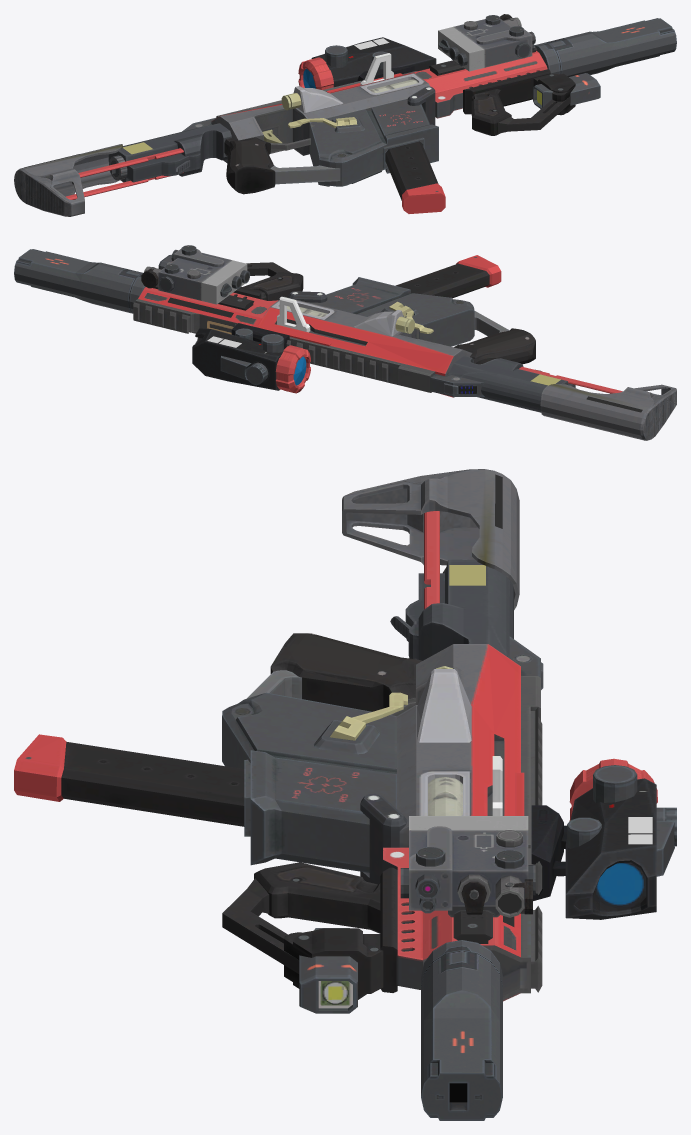
3 views of the same model, one above another, from view 1: azimuth 30°, elevation 25°; view 2: azimuth 150°, elevation 25°; view 3: azimuth 270°, elevation 25° (orthographic). The views are drawn at different scales.
Visible parts, largest first — view 1: wp01a_a002b2_sm.mo, wp01a_muzzle002a_sm.mo, wp01a_scope002a_sm.mo, wp01a_attach002a_sm.mo, wp01a_magazine002a_sm.mo; view 2: wp01a_a002b2_sm.mo, wp01a_scope002a_sm.mo, wp01a_muzzle002a_sm.mo, wp01a_attach002a_sm.mo, wp01a_magazine002a_sm.mo; view 3: wp01a_a002b2_sm.mo, wp01a_scope002a_sm.mo, wp01a_muzzle002a_sm.mo, wp01a_magazine002a_sm.mo, wp01a_attach002a_sm.mo.
Boxes of the visible parts, box(x1,y1,x2,y2) form: wp01a_a002b2_sm.mo: box(14, 46, 600, 216); wp01a_muzzle002a_sm.mo: box(534, 18, 676, 76); wp01a_scope002a_sm.mo: box(298, 37, 436, 89); wp01a_attach002a_sm.mo: box(438, 14, 535, 71); wp01a_magazine002a_sm.mo: box(385, 141, 445, 213); wp01a_a002b2_sm.mo: box(133, 254, 676, 440); wp01a_scope002a_sm.mo: box(192, 323, 310, 393); wp01a_muzzle002a_sm.mo: box(14, 249, 145, 313); wp01a_attach002a_sm.mo: box(141, 245, 250, 304); wp01a_magazine002a_sm.mo: box(395, 255, 501, 298); wp01a_a002b2_sm.mo: box(222, 469, 543, 1013); wp01a_scope002a_sm.mo: box(531, 758, 676, 919); wp01a_muzzle002a_sm.mo: box(421, 940, 502, 1120); wp01a_magazine002a_sm.mo: box(14, 734, 244, 826); wp01a_attach002a_sm.mo: box(400, 816, 535, 917).
Size of the model in its own units: 0.6966 by 0.093 by 0.3258.
Materials: 7 (5 with a texture image).
